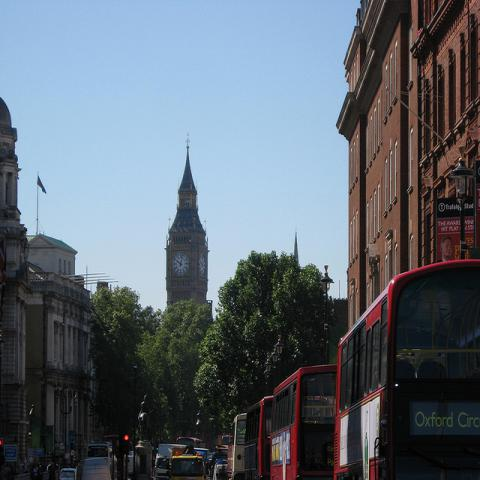bus: (336, 257, 479, 479), (270, 362, 338, 479), (245, 395, 273, 479), (226, 414, 246, 478)
car: (169, 452, 206, 479), (86, 443, 110, 471), (212, 458, 228, 479), (58, 467, 76, 479)
truck: (155, 444, 187, 478), (170, 455, 206, 480), (82, 458, 112, 479)
